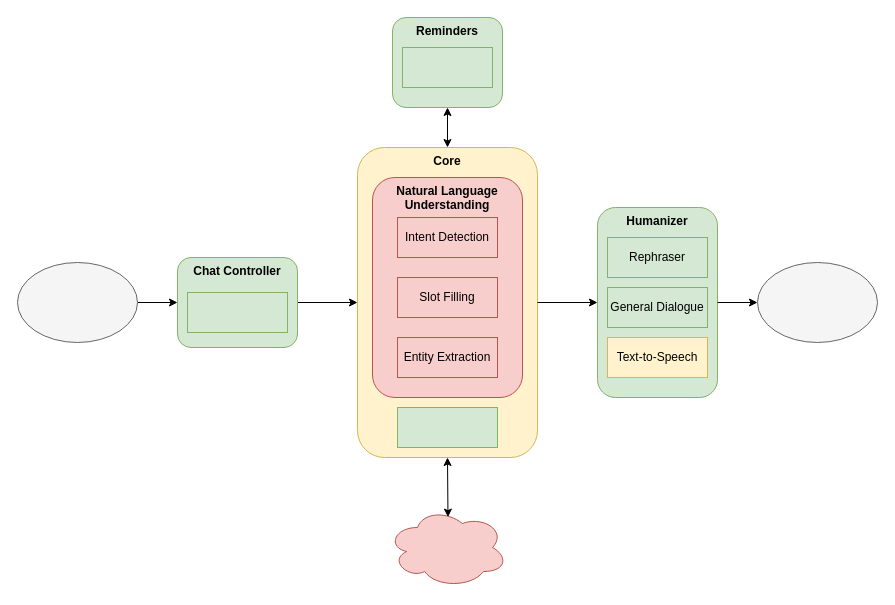
This 895x605 diagram has some shape labels left out. Each missing label, with the centre of its shape:
Custom Actions: point (447, 427)
Message Queue: point (237, 312)
Scheduler: point (447, 67)
Text Input: point (77, 302)
Voice Output: point (817, 302)
Weather API: point (447, 547)
